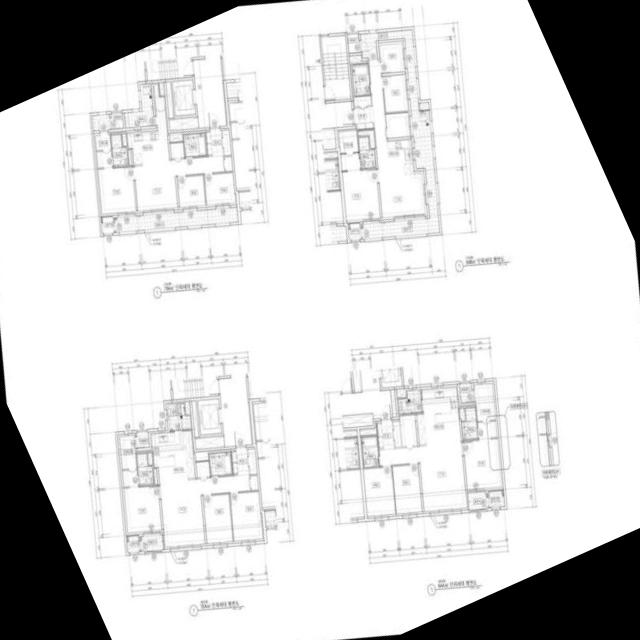background: (0, 0, 640, 640)
space_balconi: (360, 29, 440, 239), (114, 207, 238, 233), (124, 83, 154, 128), (167, 403, 190, 430), (398, 390, 422, 414), (139, 533, 163, 551), (468, 491, 488, 510)
space_bedroom: (342, 169, 380, 220), (463, 439, 501, 490), (98, 166, 136, 214), (123, 485, 161, 533), (229, 491, 262, 541), (363, 466, 395, 516), (392, 464, 422, 514), (202, 494, 232, 543), (204, 172, 235, 205), (382, 74, 407, 113), (177, 175, 205, 207), (379, 43, 404, 73)
space_dressroom: (474, 383, 497, 439), (119, 435, 138, 487), (338, 130, 360, 171), (95, 132, 112, 168)
space_elevator: (172, 80, 195, 116), (198, 399, 221, 435)
space_elevator_hall: (218, 376, 251, 447), (193, 58, 226, 128)
space_front: (231, 446, 249, 475), (205, 127, 223, 156), (376, 420, 394, 448), (352, 106, 373, 130)
space_kitchen: (126, 84, 169, 163), (416, 386, 461, 445), (150, 430, 194, 481), (387, 139, 413, 176)
space_living_room: (368, 61, 425, 217), (159, 474, 250, 547), (379, 441, 466, 511), (134, 155, 224, 211)
space_other: (385, 112, 409, 138), (91, 113, 123, 131), (399, 414, 416, 446), (194, 436, 224, 449), (169, 117, 198, 130), (357, 130, 375, 148), (459, 383, 474, 403), (191, 401, 199, 437), (165, 82, 173, 118), (347, 34, 360, 53), (169, 142, 184, 158), (195, 461, 210, 477), (247, 449, 256, 474), (135, 432, 149, 448), (393, 421, 401, 447), (222, 130, 230, 155), (354, 95, 371, 106), (390, 390, 396, 417), (224, 156, 232, 171), (250, 475, 258, 490), (359, 429, 376, 436), (169, 134, 182, 142), (349, 55, 361, 62), (419, 102, 429, 110), (127, 150, 132, 165), (459, 408, 465, 420), (147, 452, 152, 465), (397, 391, 406, 398), (153, 469, 157, 484), (121, 134, 126, 146), (184, 402, 189, 414), (159, 84, 163, 95)
space_outdoor_room: (488, 490, 504, 508), (348, 223, 361, 240), (126, 536, 139, 553)
space_staircase: (320, 35, 350, 101)
space_toilet: (351, 64, 370, 95), (110, 134, 128, 166), (358, 136, 375, 169), (361, 436, 379, 467), (183, 133, 206, 157), (209, 452, 232, 476), (136, 453, 153, 485), (461, 407, 477, 440)
